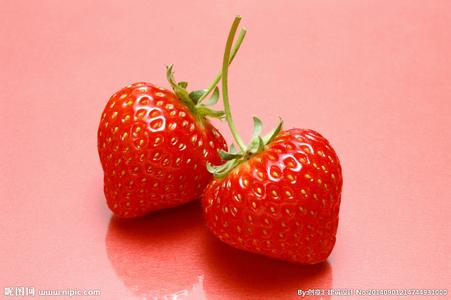strawberry: (209, 120, 346, 262), (97, 73, 223, 219)
